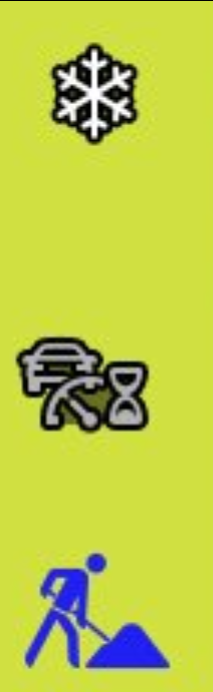ACC_WAITING: (5, 319, 185, 438)
CONSTRUCTION: (3, 534, 195, 692)
EISSTERN: (41, 26, 161, 152)
